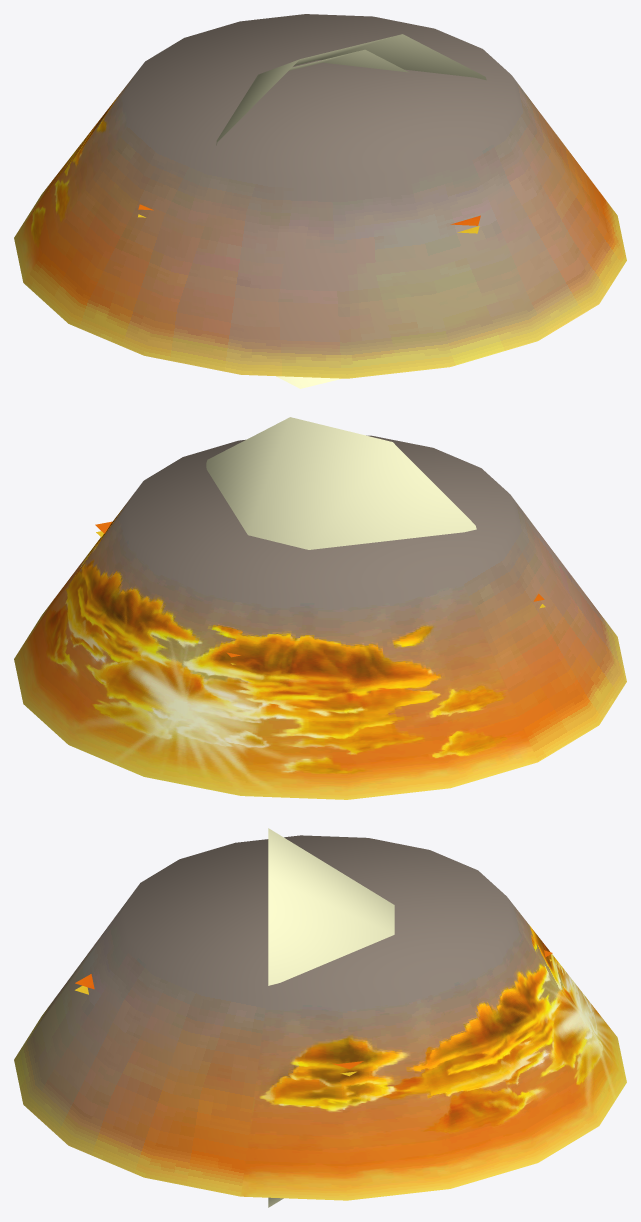
The model's file is TROLLHOLESKYBOX.fbx.
3 views of the same model, one above another, from view 1: azimuth 30°, elevation 25°; view 2: azimuth 150°, elevation 25°; view 3: azimuth 270°, elevation 25° (orthographic).
Visible parts, largest first — view 1: TROLLHOLESKYBOX; view 2: TROLLHOLESKYBOX; view 3: TROLLHOLESKYBOX.
Boxes of the visible parts, box(x1,y1,x2,y2) form: TROLLHOLESKYBOX: box(14, 14, 626, 388); TROLLHOLESKYBOX: box(14, 417, 626, 799); TROLLHOLESKYBOX: box(14, 828, 626, 1207).
Bounding box in the file's own units: 881822 × 523681 × 881822.
11 materials, 11 textured.
